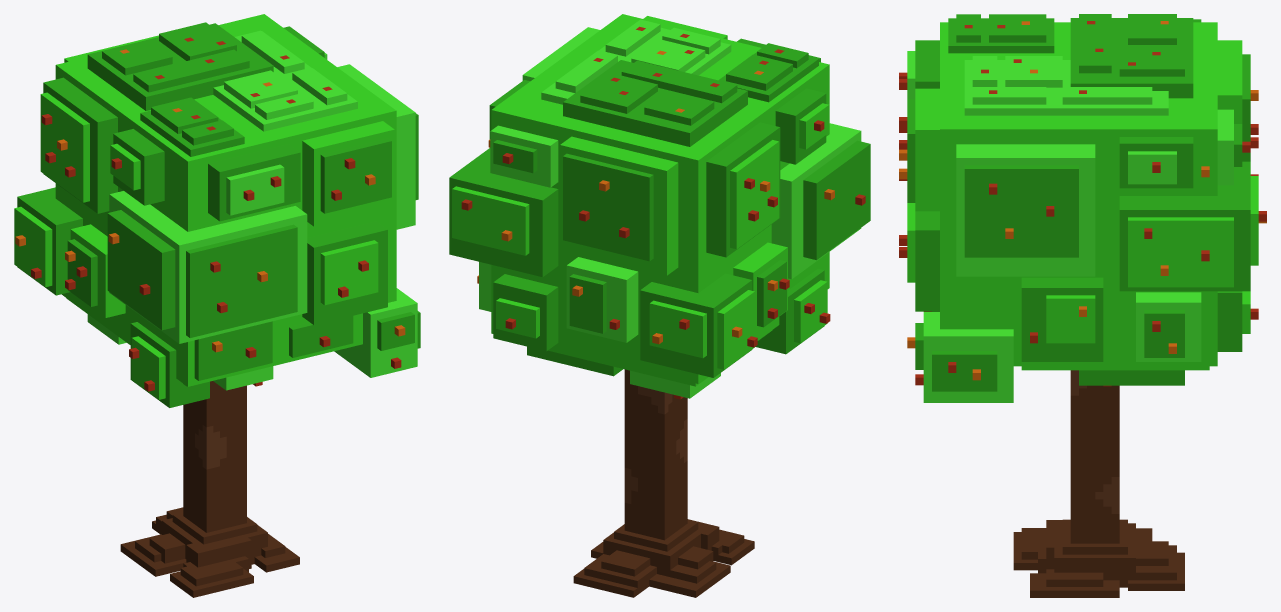
Rendered from Arvore.fbx.
3 views of the same model, side by side, from view 1: azimuth 30°, elevation 25°; view 2: azimuth 150°, elevation 25°; view 3: azimuth 270°, elevation 25° (orthographic). The views are drawn at different scales.
Visible parts, largest first — view 1: Mesh; view 2: Mesh; view 3: Mesh.
Part boxes in pixels (bbox=[...]): Mesh: bbox=[14, 14, 420, 597]; Mesh: bbox=[449, 14, 870, 597]; Mesh: bbox=[899, 14, 1266, 597].
Size of the model in its own units: 108 by 175 by 113.
1 material, 1 textured.
